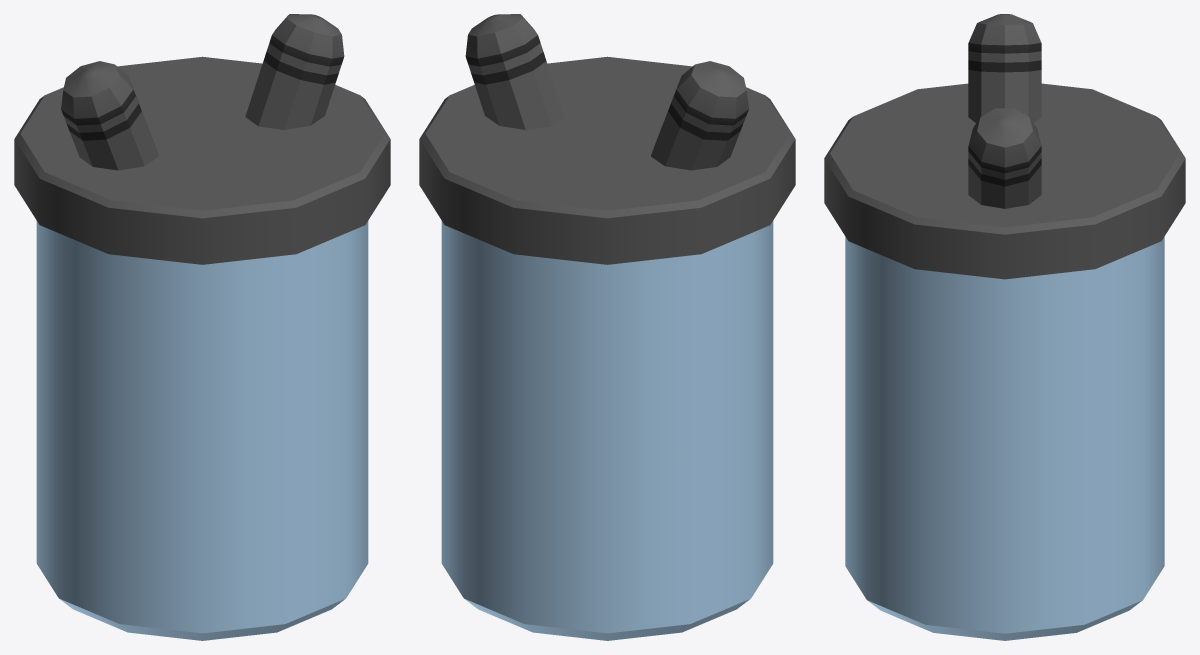
Rendered from Empty_ExperimentJar_02.fbx.
3 renders of one model, left to right at view 1: azimuth 30°, elevation 25°; view 2: azimuth 150°, elevation 25°; view 3: azimuth 270°, elevation 25°, orthographic. The views are drawn at different scales.
Parts seen in each view (by area): view 1: Empty_Jar_01; view 2: Empty_Jar_01; view 3: Empty_Jar_01.
Part boxes in pixels (<box>): Empty_Jar_01: <box>14,14,390,640</box>; Empty_Jar_01: <box>419,14,795,640</box>; Empty_Jar_01: <box>824,14,1185,640</box>.
Bounding box in the file's own units: 173 × 272 × 173.
